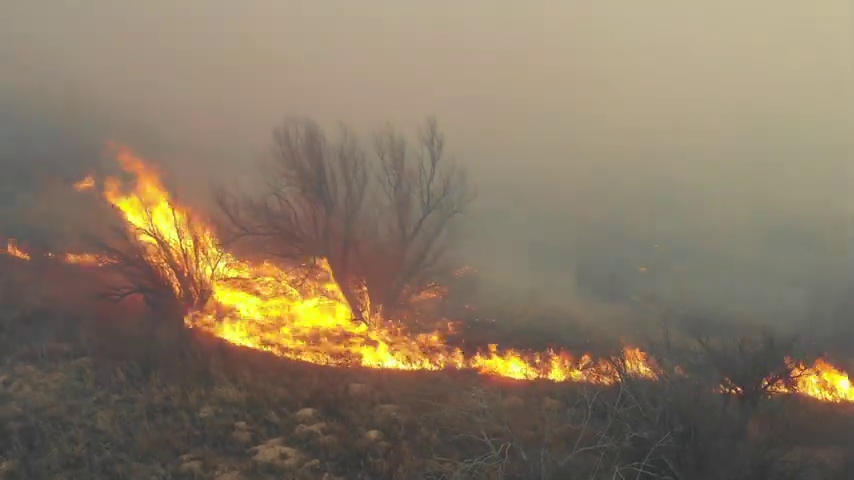forest_fire: (105, 150, 620, 384), (760, 358, 853, 402), (621, 347, 657, 378), (47, 253, 102, 265), (0, 239, 30, 259)
